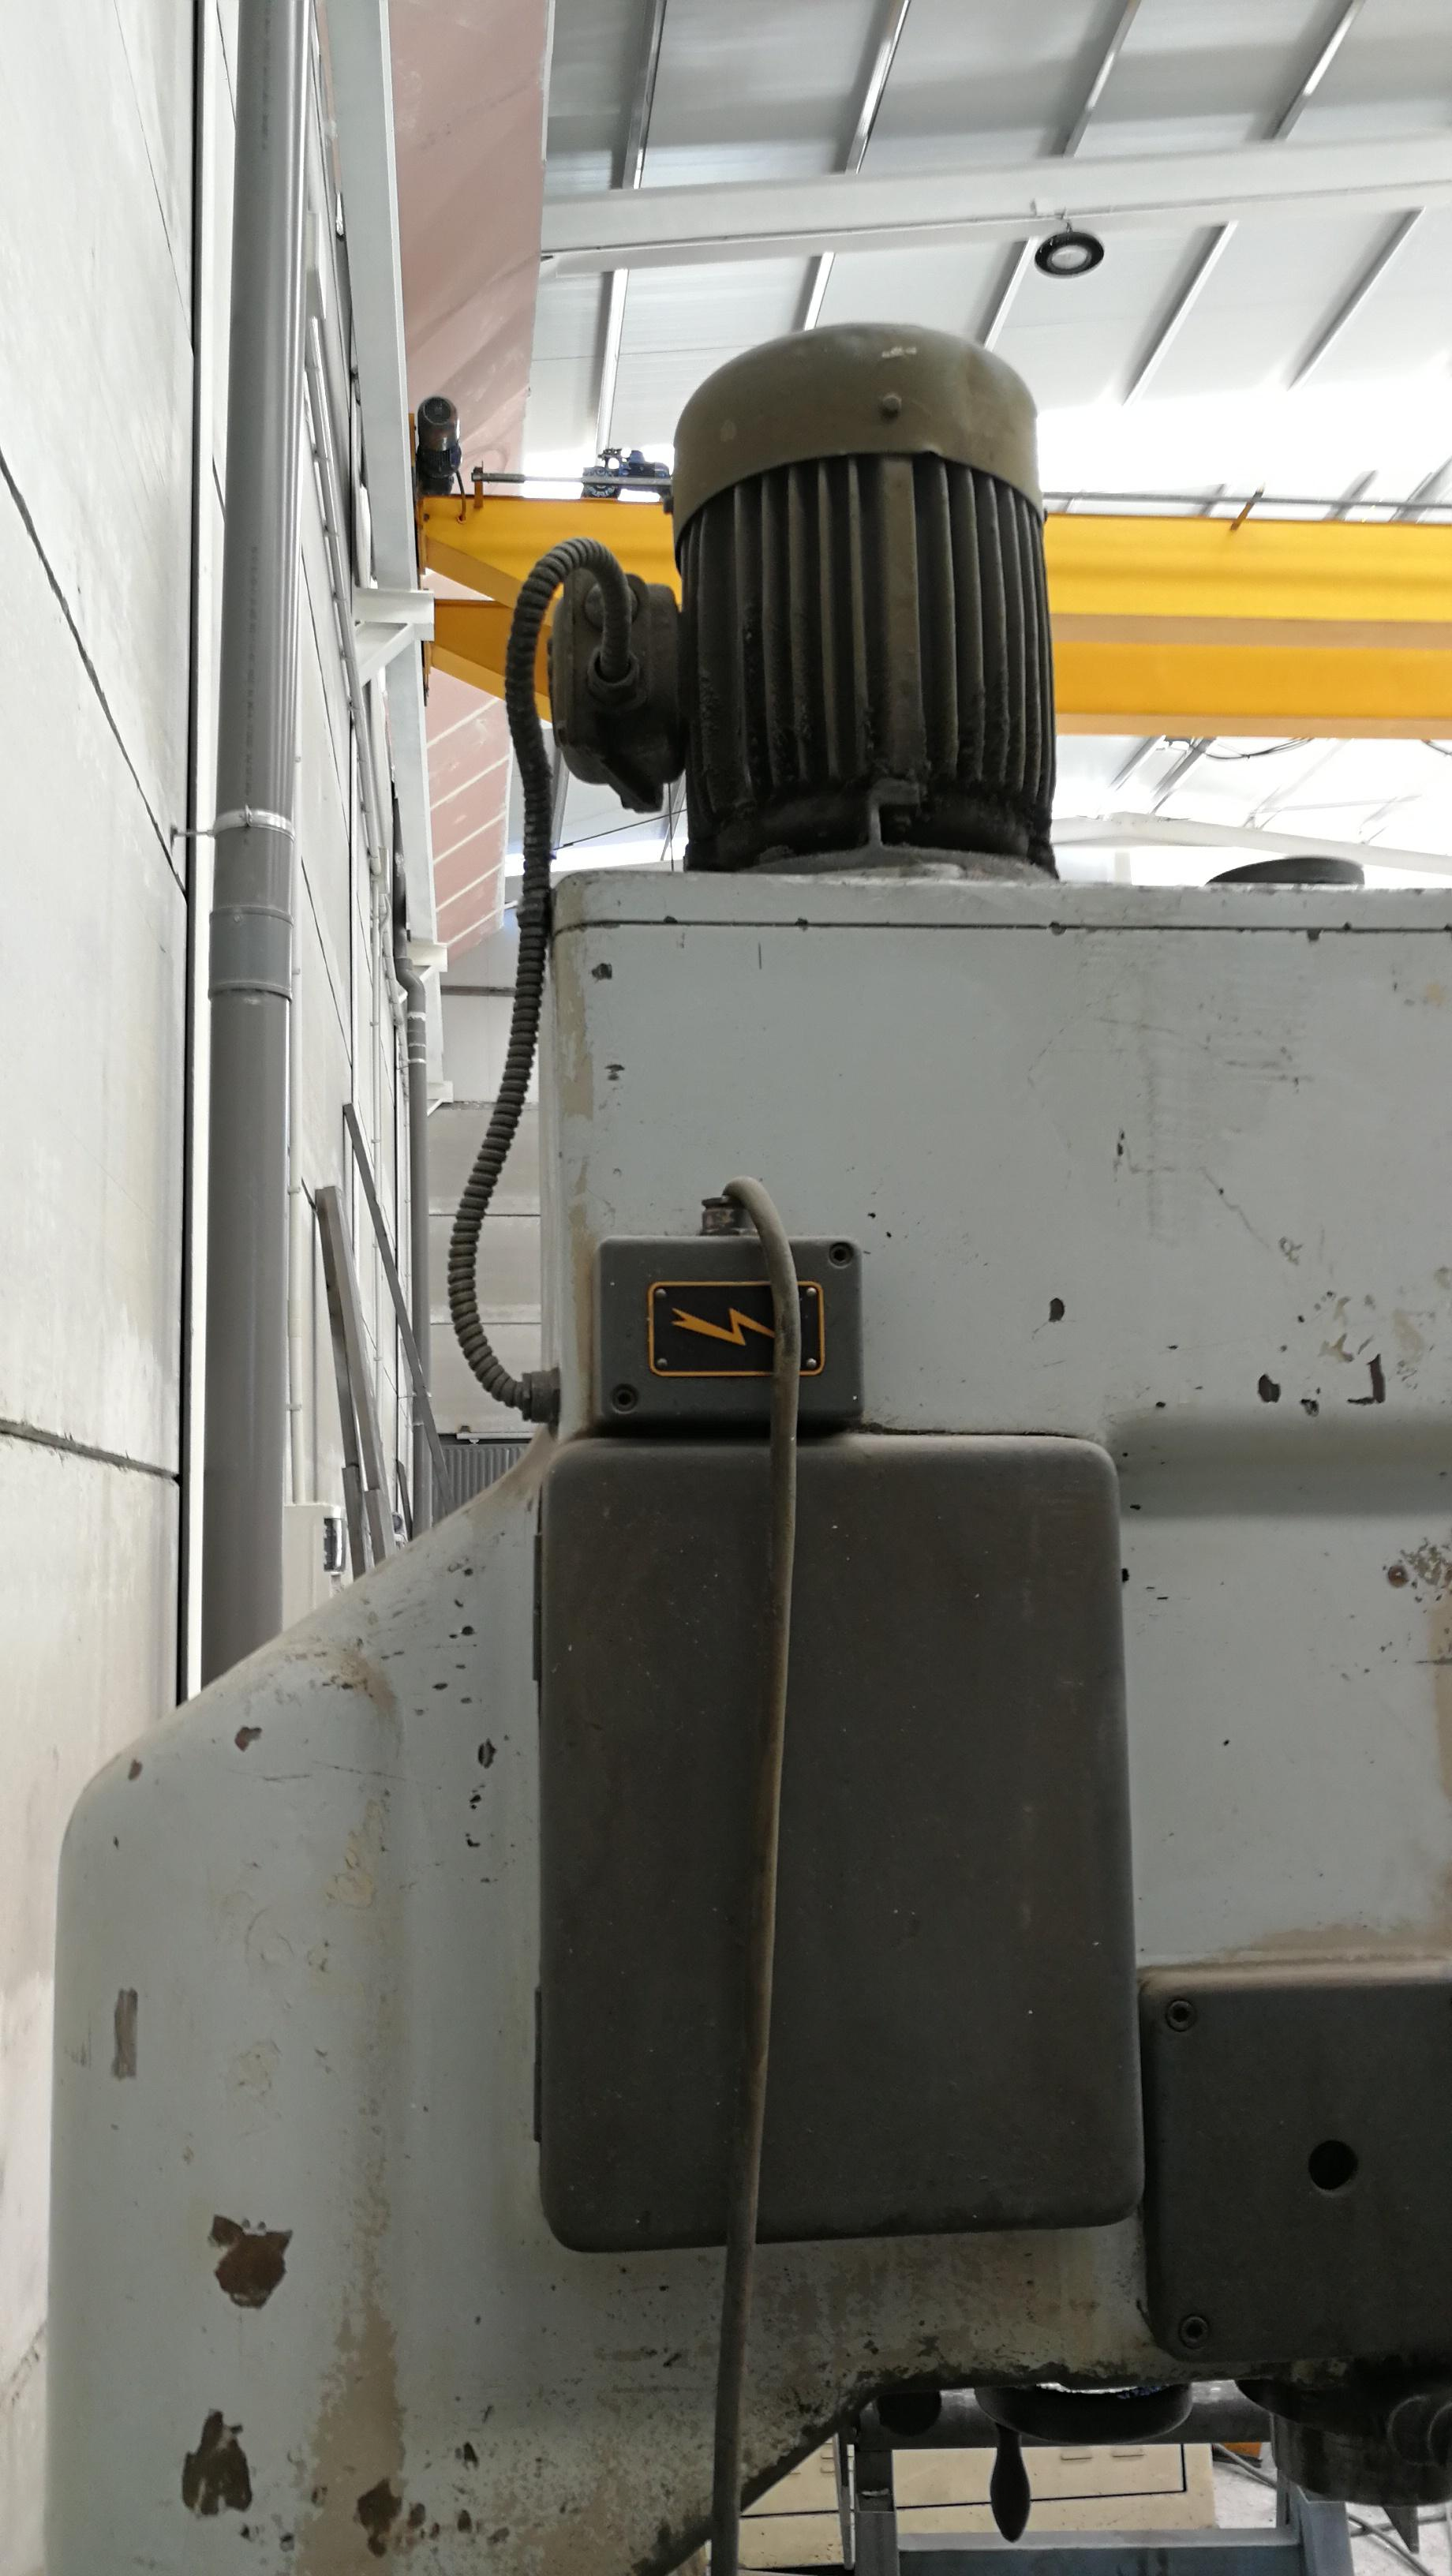sin_senalizacion_riesgos: (888, 962, 1452, 1357)
